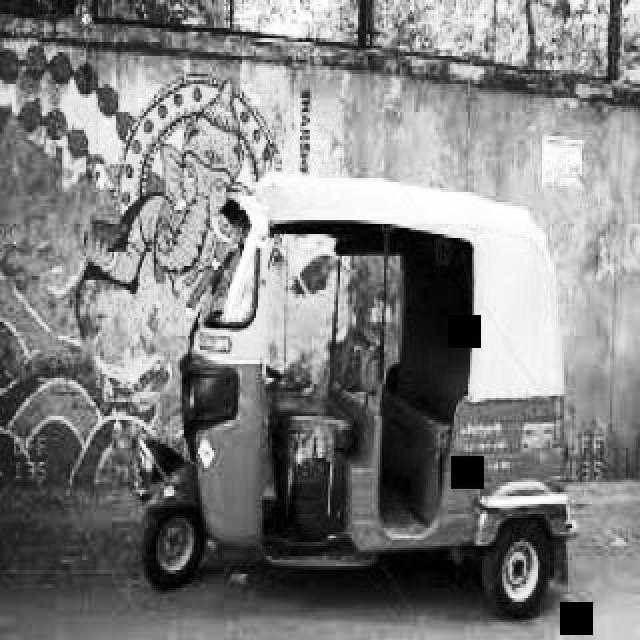Auto-Rickshaw: (140, 164, 578, 616)
